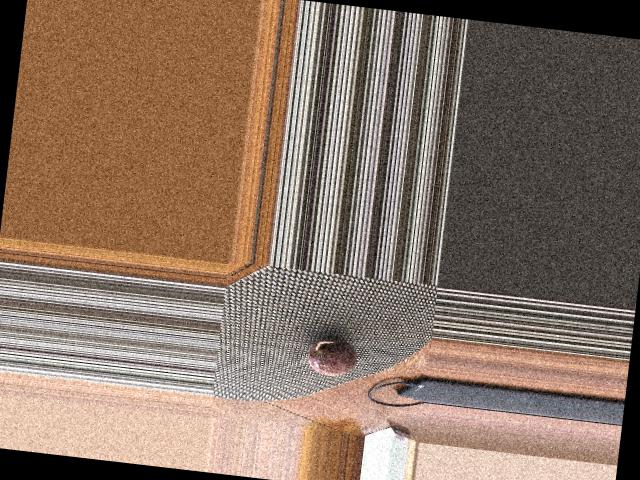beet: (306, 335, 359, 378)
